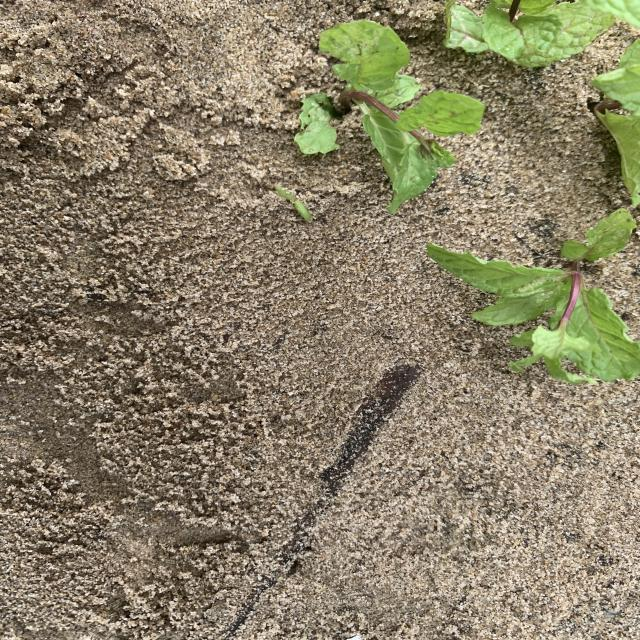crop: (427, 210, 640, 384), (319, 20, 484, 213), (444, 0, 615, 67), (592, 40, 640, 206), (294, 93, 338, 154), (584, 0, 640, 27)
weed: (274, 185, 313, 225)
